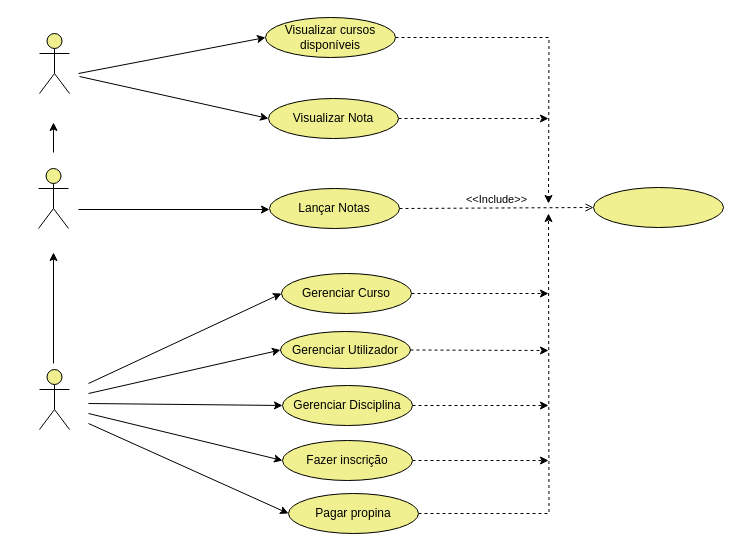
This 741x551 diagram has some shape labels left out. Here are the shapes that lost their labels. From the top down, the centre of each, then its label:
the point at 54,63: Aluno
the point at 53,198: Professor
the point at 658,207: Login
the point at 54,399: Administrador
